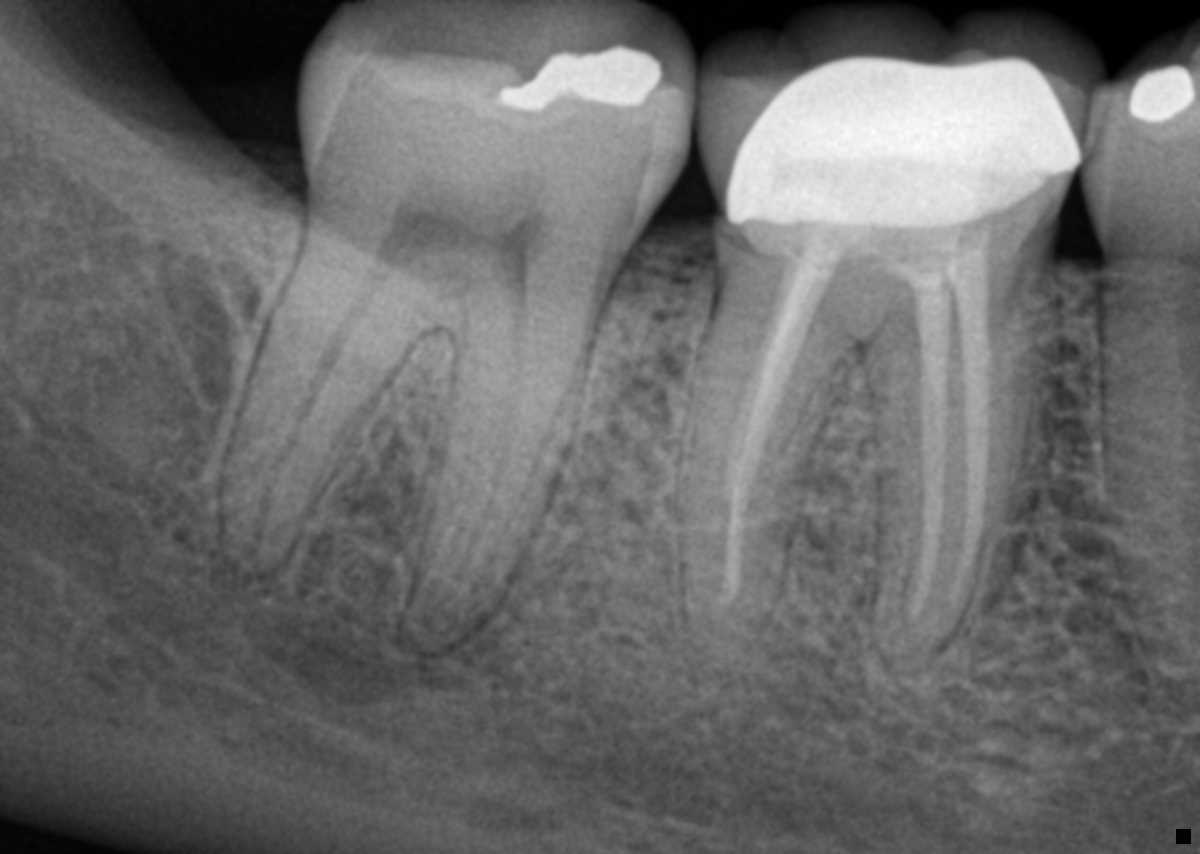Distal Root: (222, 226, 450, 579), (678, 283, 858, 672), (250, 265, 394, 572)
Main Root: (1099, 265, 1200, 693)
Mesial Root: (396, 324, 597, 656), (862, 306, 1033, 668), (462, 332, 532, 574)
Root Canal Filling: (725, 248, 838, 611), (904, 282, 950, 624), (949, 253, 990, 612)
decay: (716, 213, 760, 259)
